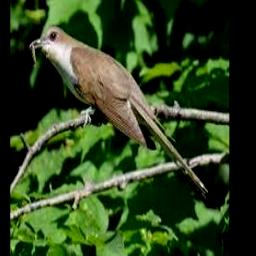Cuckoo: (30, 25, 209, 199)
